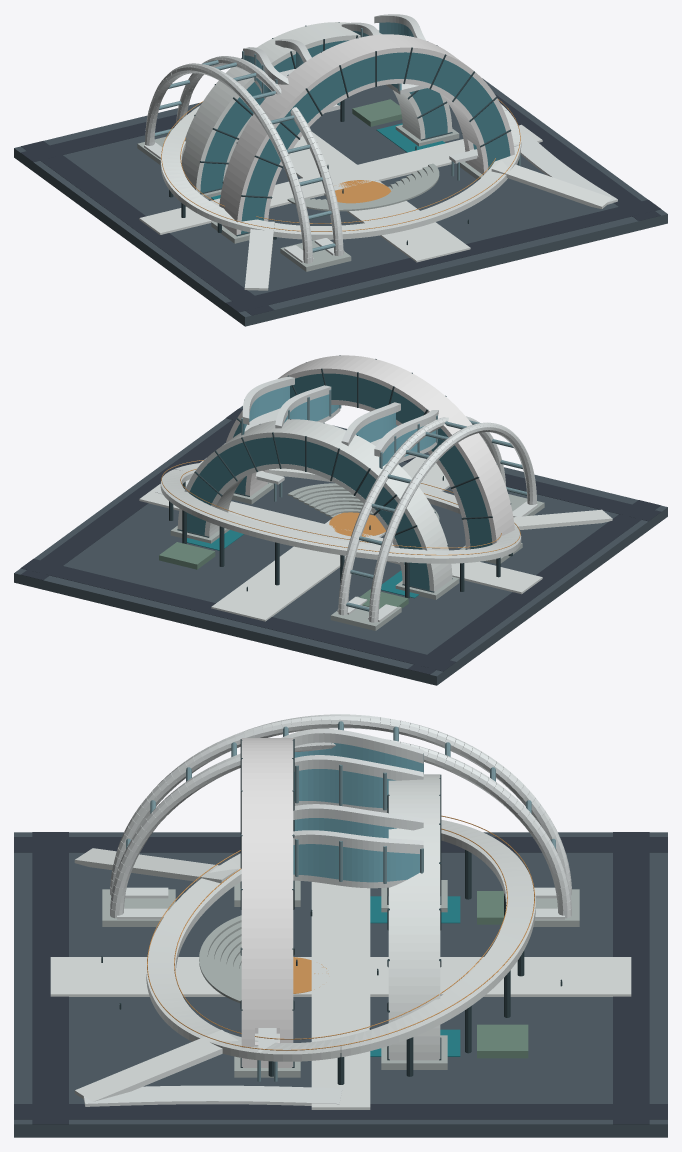
Rendered from a7_orbital_commons_portal_study.glb.
3 renders of one model, top to bottom at view 1: azimuth 30°, elevation 25°; view 2: azimuth 150°, elevation 25°; view 3: azimuth 270°, elevation 25°, orthographic. The views are drawn at different scales.
Parts seen in each view (by area): view 1: District base, SOUTH continuous glazed occupied band, SOUTH outer load shell_A7_PORTAL, Continuous elliptical public promenade, E-W road, NORTH outer load shell, Public ground, continuous E-W axis, N-S road, Public ground, continuous N-S axis, NORTH continuous glazed occupied band, SOUTH inner load shell_A7_PORTAL, N-S road.001 (+13 smaller); view 2: District base, Continuous elliptical public promenade, SOUTH outer load shell_A7_PORTAL, NORTH continuous glazed occupied band.001, NORTH outer load shell, Public ground, continuous N-S axis, E-W road.001, SOUTH continuous glazed occupied band.001, N-S road, Public ground, continuous E-W axis, N-S road.001, E-W road (+14 smaller); view 3: District base, Continuous elliptical public promenade, SOUTH outer load shell_A7_PORTAL, Public ground, continuous N-S axis, Public ground, continuous E-W axis, NORTH outer load shell, E-W road, E-W road.001, N-S road.001, N-S road, A7_APPROACH_CURVED_DECK, A6_CURVED_SKY_EAST_RIGHTGLASS (+19 smaller).
Boxes of the visible parts, x1,y1,x2,y2 form: District base: (14, 45, 667, 326); SOUTH continuous glazed occupied band: (241, 52, 510, 233); SOUTH outer load shell_A7_PORTAL: (219, 34, 514, 235); Continuous elliptical public promenade: (160, 103, 521, 239); E-W road: (226, 199, 661, 312); NORTH outer load shell: (181, 22, 452, 193); Public ground, continuous E-W axis: (139, 124, 542, 234); N-S road: (21, 141, 273, 315); Public ground, continuous N-S axis: (289, 132, 470, 262); NORTH continuous glazed occupied band: (200, 40, 447, 193); SOUTH inner load shell_A7_PORTAL: (264, 79, 488, 221); N-S road.001: (495, 94, 660, 220); District base: (14, 406, 667, 685); Continuous elliptical public promenade: (160, 462, 521, 563); SOUTH outer load shell_A7_PORTAL: (226, 355, 514, 544); NORTH continuous glazed occupied band.001: (187, 437, 429, 590); NORTH outer load shell: (177, 419, 452, 591); Public ground, continuous N-S axis: (211, 456, 450, 621); E-W road.001: (20, 558, 455, 671); SOUTH continuous glazed occupied band.001: (233, 373, 492, 549); N-S road: (408, 500, 660, 674); Public ground, continuous E-W axis: (139, 484, 542, 594); N-S road.001: (21, 420, 235, 580); E-W road: (226, 408, 661, 521); District base: (14, 832, 667, 1137); Continuous elliptical public promenade: (146, 819, 535, 1061); SOUTH outer load shell_A7_PORTAL: (241, 738, 293, 1067); Public ground, continuous N-S axis: (50, 957, 631, 996); Public ground, continuous E-W axis: (311, 882, 370, 1109); NORTH outer load shell: (388, 774, 440, 1060); E-W road: (32, 832, 68, 1124); E-W road.001: (613, 832, 649, 1124); N-S road.001: (14, 1104, 667, 1119); N-S road: (14, 837, 667, 852); A7_APPROACH_CURVED_DECK: (83, 1085, 342, 1106); A6_CURVED_SKY_EAST_RIGHTGLASS: (293, 844, 419, 882).
Bounding box in the file's own units: 188 × 70 × 178.
